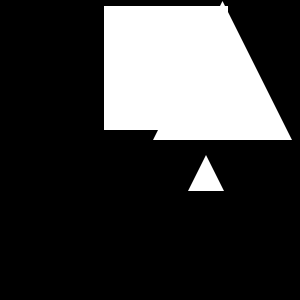circle: (104, 6, 228, 130)
triangle: (153, 1, 292, 140), (188, 155, 224, 191)
